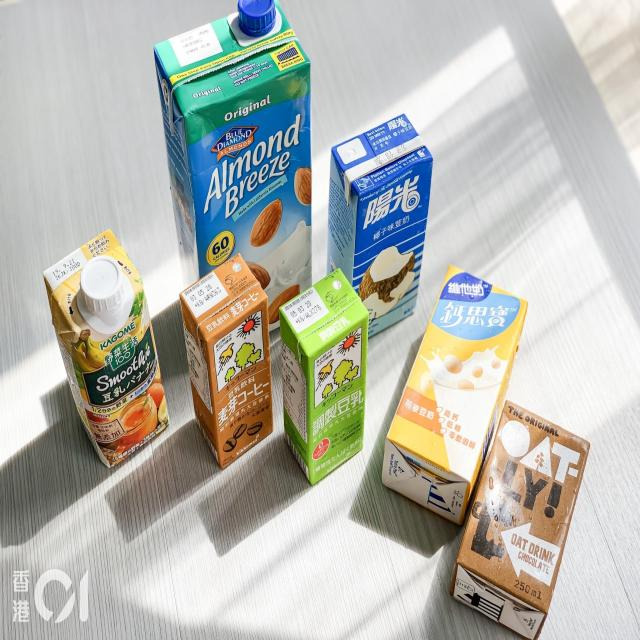cardboard: (153, 0, 313, 272), (382, 262, 523, 528), (455, 399, 596, 640), (49, 230, 168, 467), (328, 109, 433, 331), (177, 254, 273, 464), (281, 268, 368, 484)
